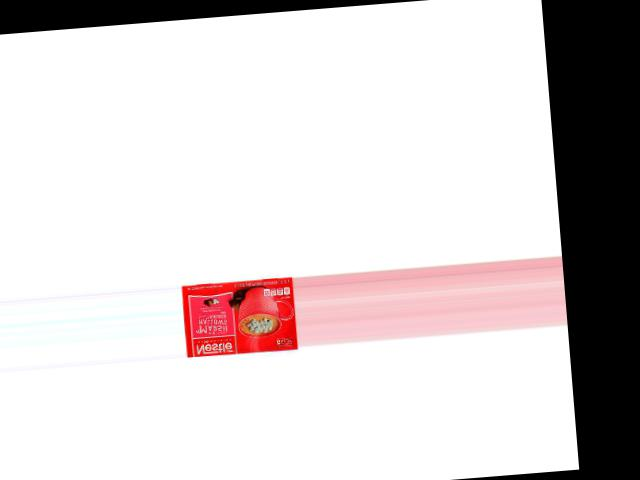chocolate: (184, 272, 298, 355)
